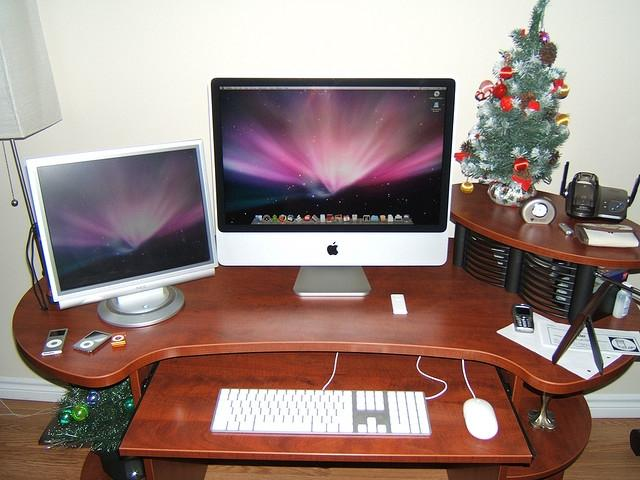apple: (327, 245, 338, 255)
